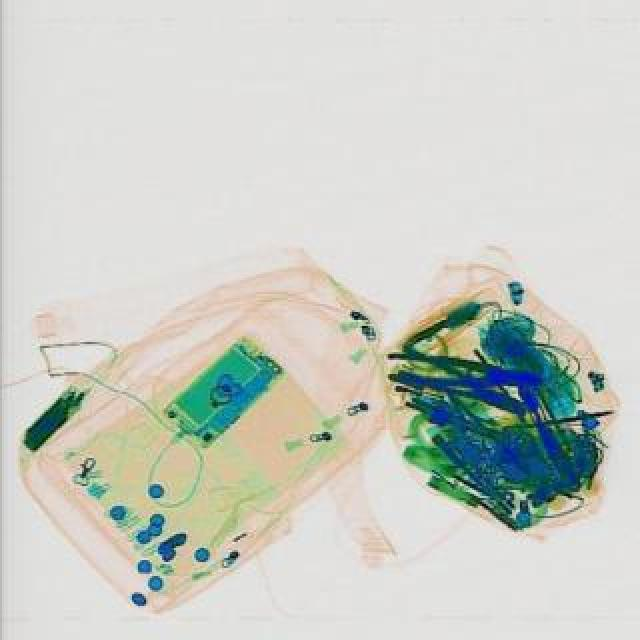wrench: (386, 342, 532, 426), (384, 350, 548, 398)
